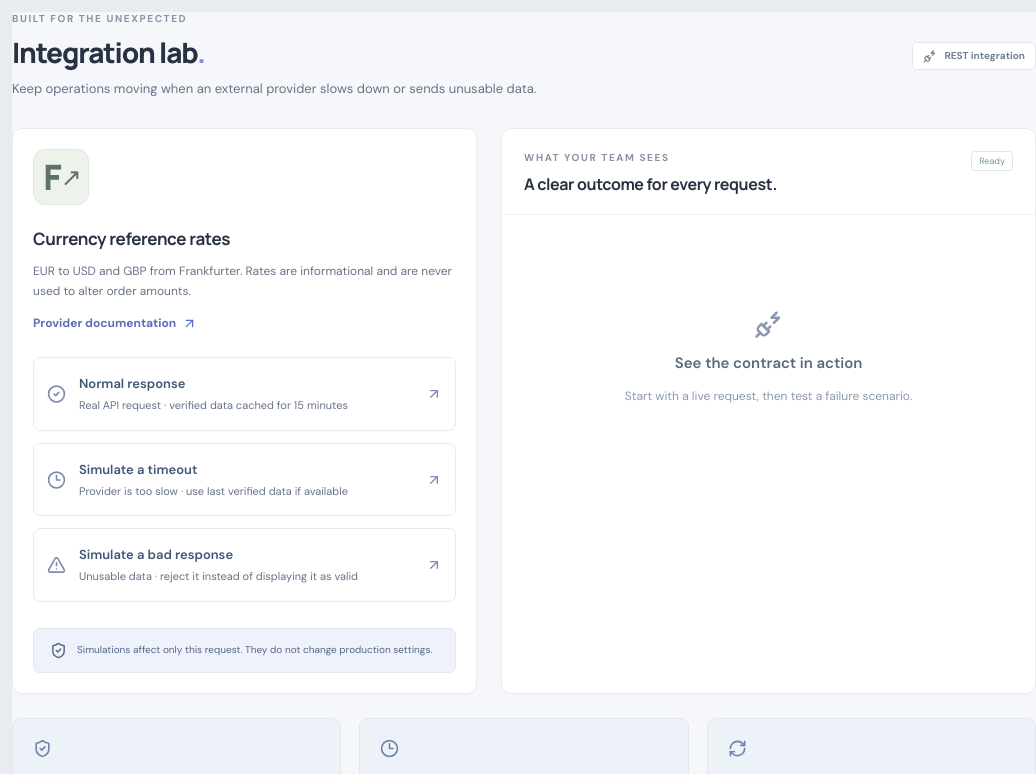
Test: Portfolio workflow recovery › does not present a previous response as current after an API error and retries the chosen scenario
Click the button "Normal response".
click(132, 384)  # box [33,357,456,431]
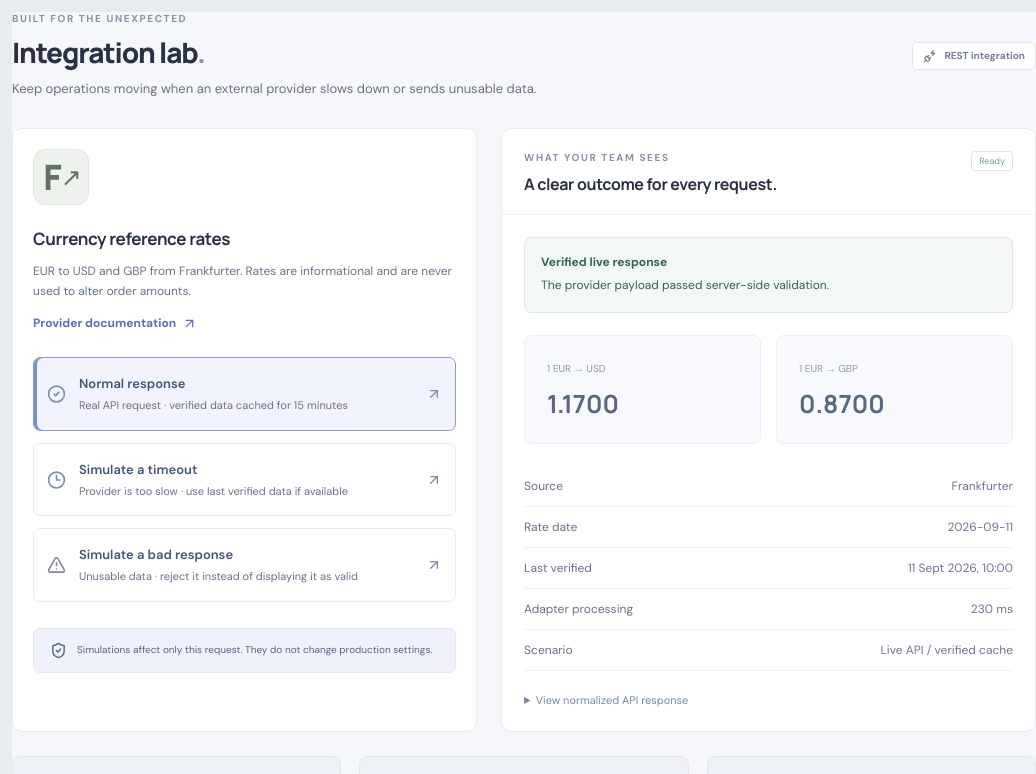
Now the text "Verified live response" is shown, box [541,254,667,270]
Click the button "Simulate a timeout".
click(138, 469)  # box [33,443,456,516]
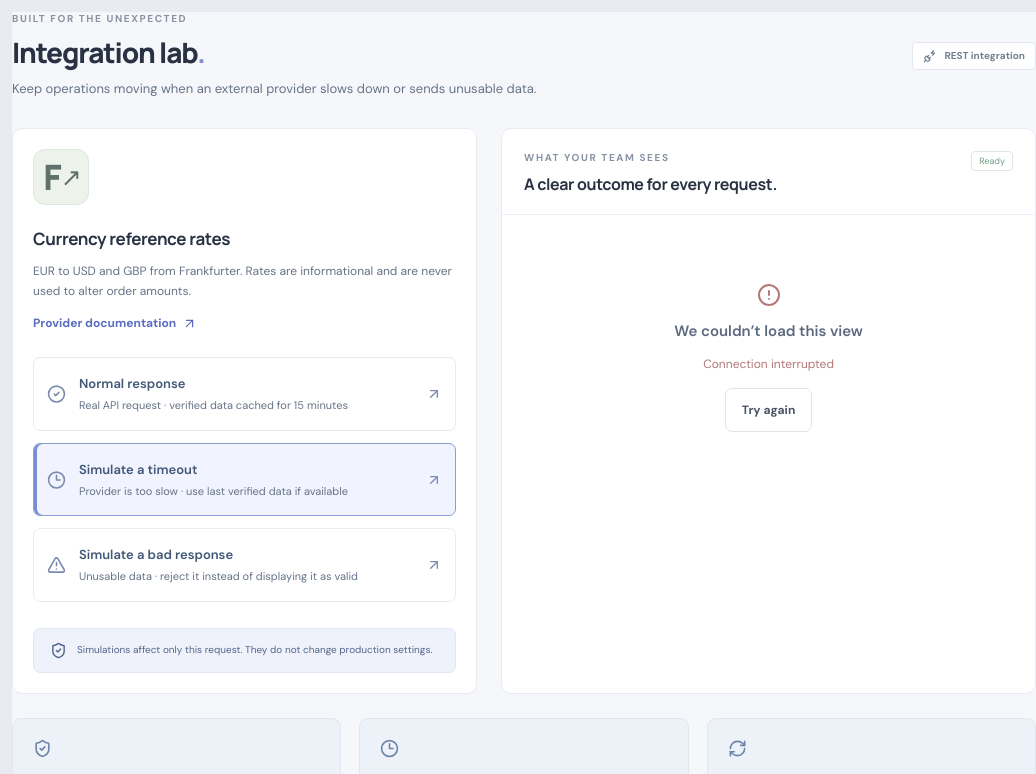
Now the text "Connection interrupted" is shown, box [703,355,834,374]
Now the text "Verified live response" is gone
Now the text "1.1700" is gone
Click the button "Try again".
click(769, 410)  # box [725,388,812,432]
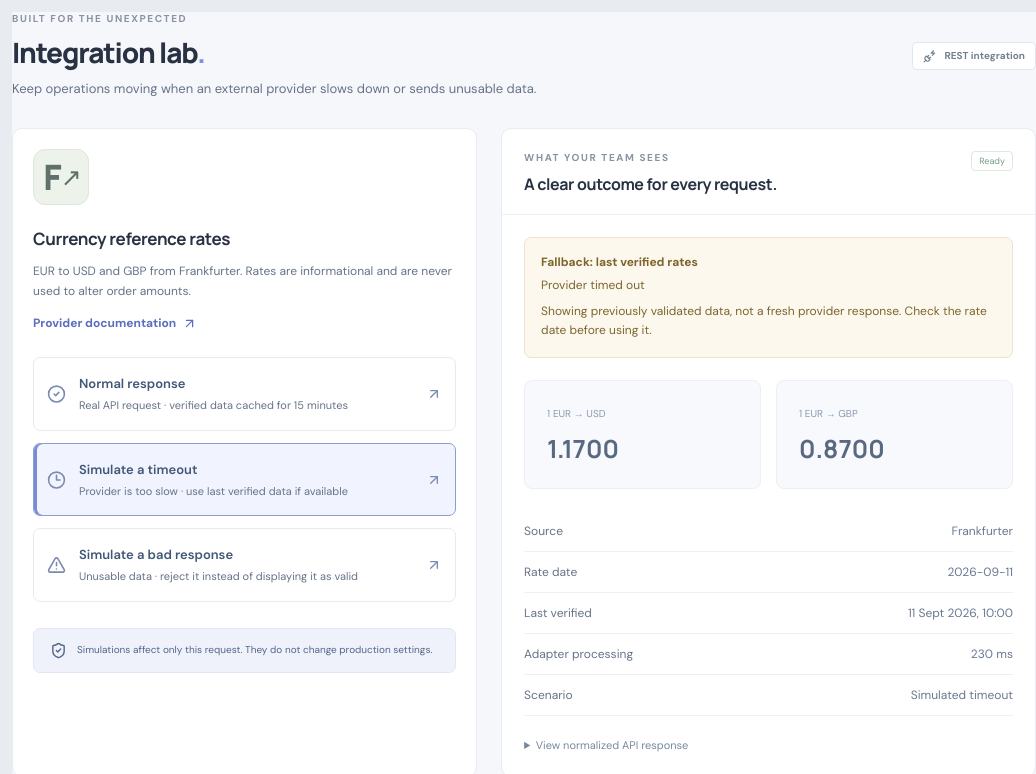
Now the text "Fallback: last verified rates" is shown, box [541,254,698,270]
Now the text "not a fresh provider response" is shown, box [541,303,987,338]
